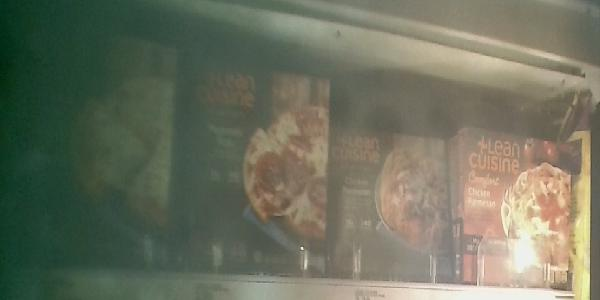pizza1: (18, 19, 173, 271), (182, 65, 331, 275), (456, 126, 573, 287), (331, 128, 452, 282)
